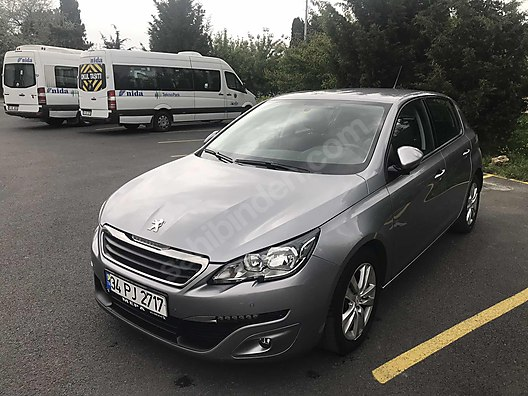peugeot: (85, 86, 491, 370)
